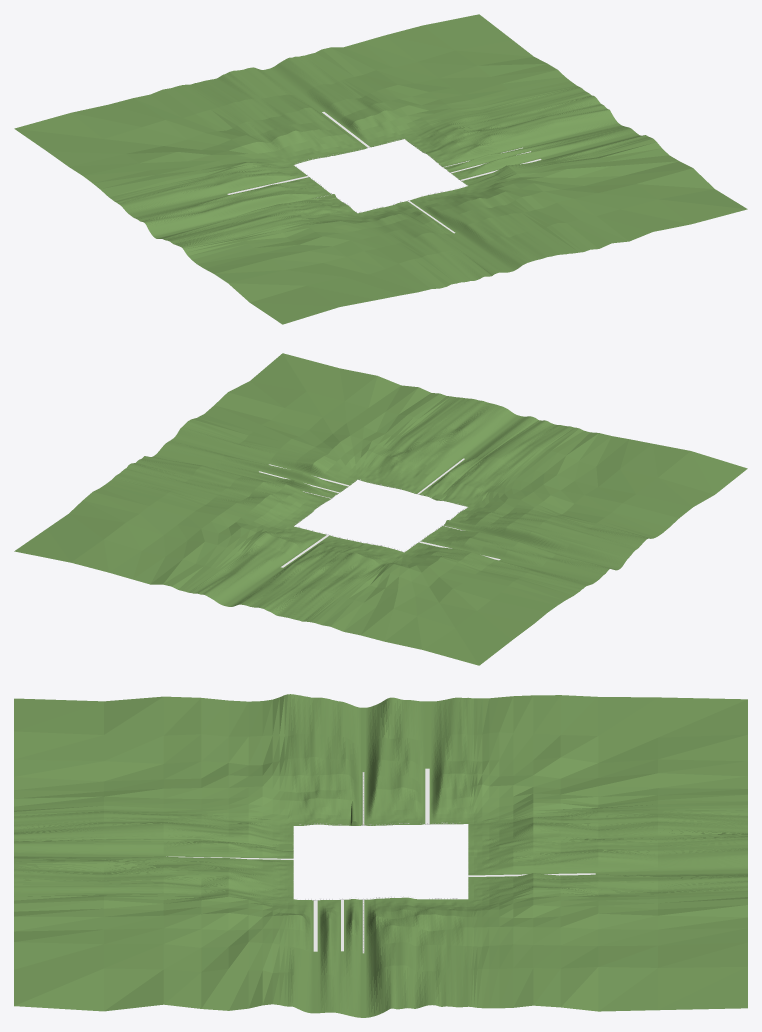
Rendered from outdoor_border.glb.
3 renders of one model, top to bottom at view 1: azimuth 30°, elevation 25°; view 2: azimuth 150°, elevation 25°; view 3: azimuth 270°, elevation 25°, orthographic. The views are drawn at different scales.
Visible parts, largest first — view 1: gas_station_town; view 2: gas_station_town; view 3: gas_station_town.
Boxes of the visible parts, box(x1,y1,x2,y2) form: gas_station_town: box(14, 14, 747, 324); gas_station_town: box(14, 353, 747, 665); gas_station_town: box(14, 694, 747, 1017).
Size of the model in its own units: 1470 by 40.77 by 1470.
4 materials, 3 textured.
